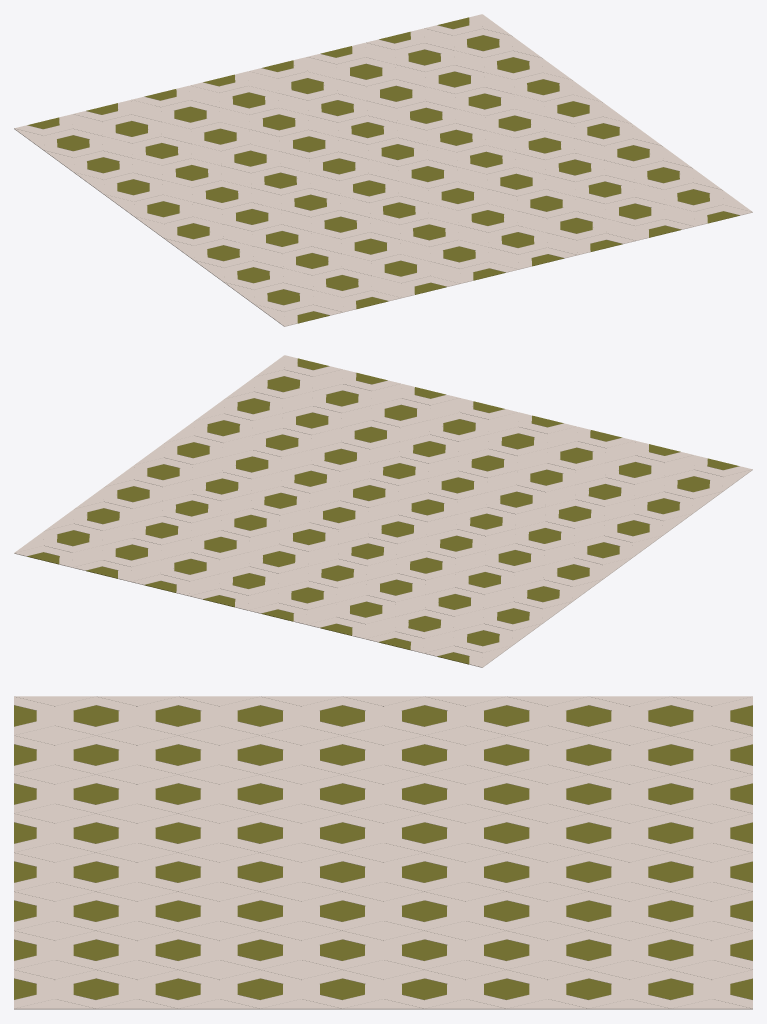
Rendered from Tile_4.fbx.
The picture shows the model from 3 angles, top to bottom: view 1: azimuth 30°, elevation 25°; view 2: azimuth 150°, elevation 25°; view 3: azimuth 270°, elevation 25°; orthographic projection. The views are drawn at different scales.
Parts seen in each view (by area): view 1: Tile_4; view 2: Tile_4; view 3: Tile_4.
Part boxes in pixels (x1,y1,x2,y2): Tile_4: (14, 14, 752, 326); Tile_4: (14, 355, 752, 667); Tile_4: (14, 696, 752, 1009).
Bounding box in the file's own units: 489 × 489 × 0.5264.
